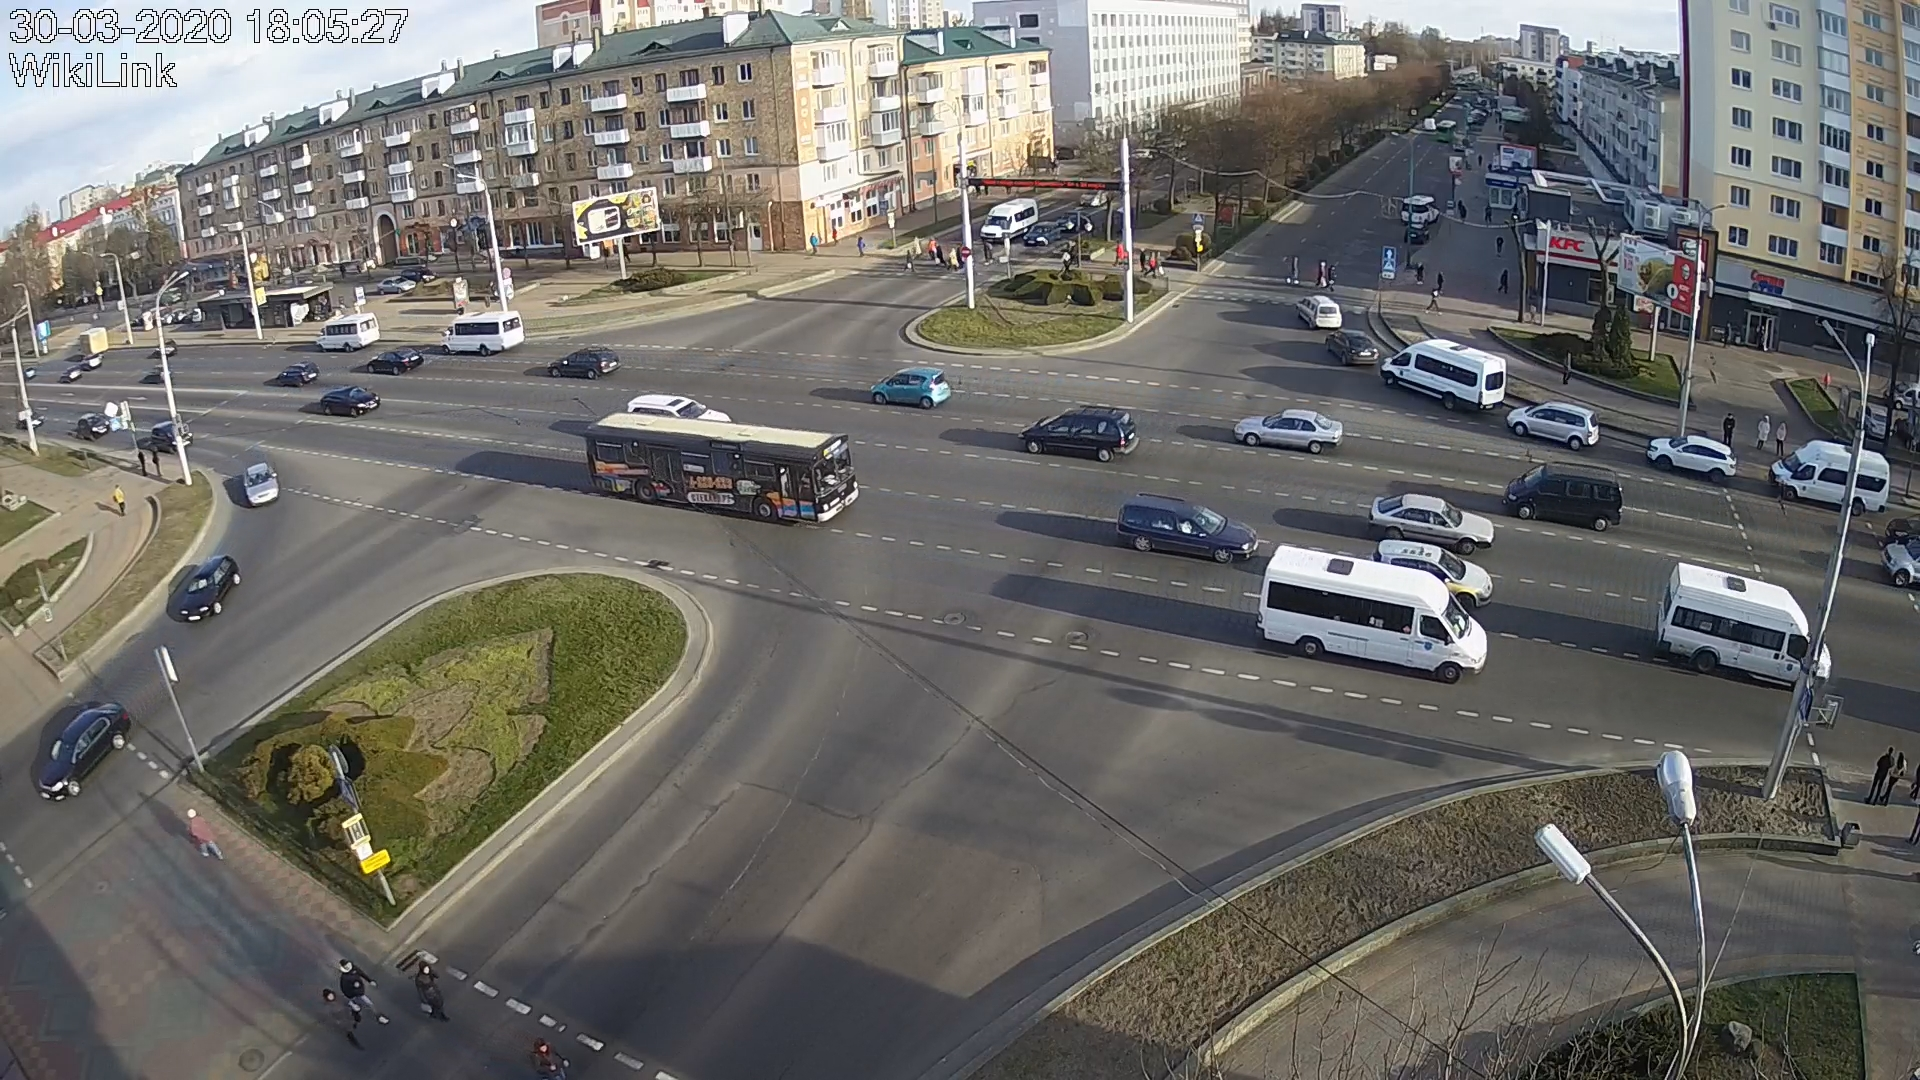bus: (583, 413, 860, 525)
car: (1253, 545, 1487, 684), (1654, 562, 1832, 690), (1117, 492, 1259, 564), (1768, 439, 1891, 518), (1379, 338, 1507, 411), (38, 702, 131, 802), (1501, 462, 1625, 531), (1367, 539, 1493, 608), (1367, 493, 1494, 556), (1017, 405, 1139, 464), (1233, 407, 1342, 455), (1506, 401, 1600, 451), (1644, 435, 1738, 484), (179, 555, 241, 621), (440, 310, 525, 357), (870, 367, 951, 410), (626, 393, 731, 425), (545, 345, 621, 380), (980, 198, 1038, 243), (316, 313, 380, 353), (1324, 328, 1379, 367), (320, 384, 380, 418), (367, 347, 425, 375), (244, 462, 280, 506), (1296, 295, 1342, 330), (150, 419, 193, 454), (274, 361, 320, 388), (1025, 222, 1062, 247)
